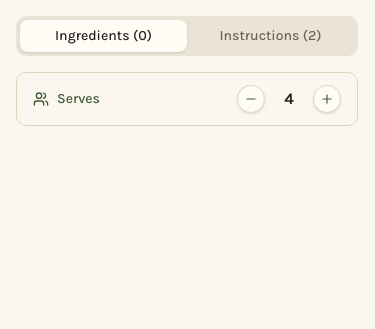
Scenario: RecipeContent › switches the mobile tab panel from ingredients to instructions+notes on click
Click the tab "Instructions (2)".
click(270, 36)  # box [187, 20, 354, 52]
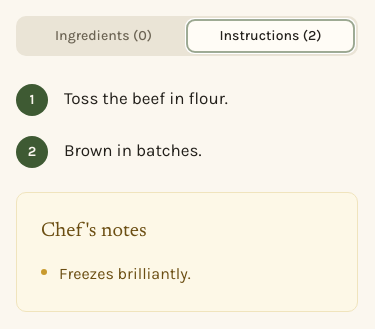
Now the text "Toss the beef in flour." is shown 2 times
Now the text "Freezes brilliantly." is shown 2 times
